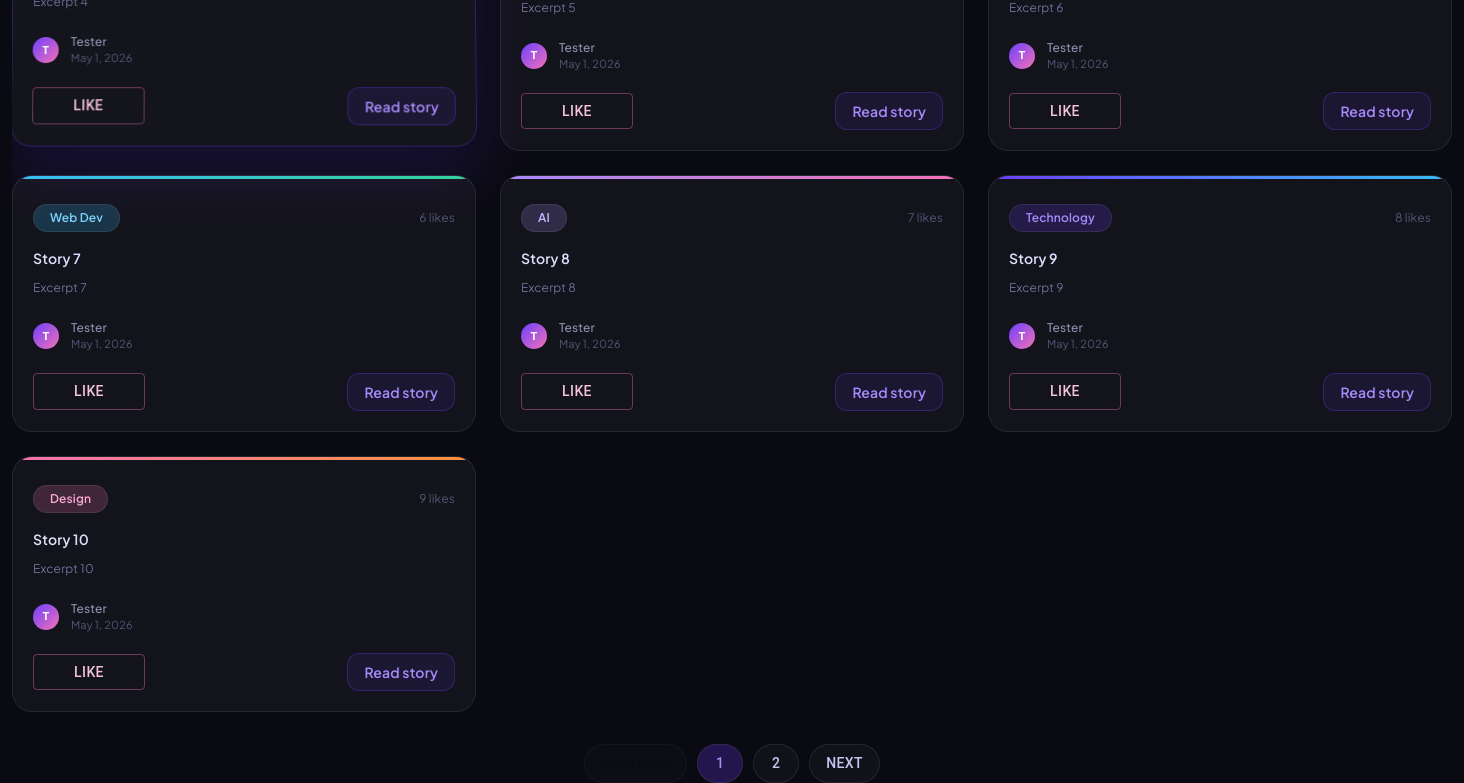
Scenario: BlogListScreen › filters stories by search and paginates results
(page scrolled)
expect the heading "Story 10" is shown: met, box [33,530,89,548]
expect the text "Story 11" is not shown: met
Click the button "Next" at (844,763), box [809,744,880,782]
(page scrolled)
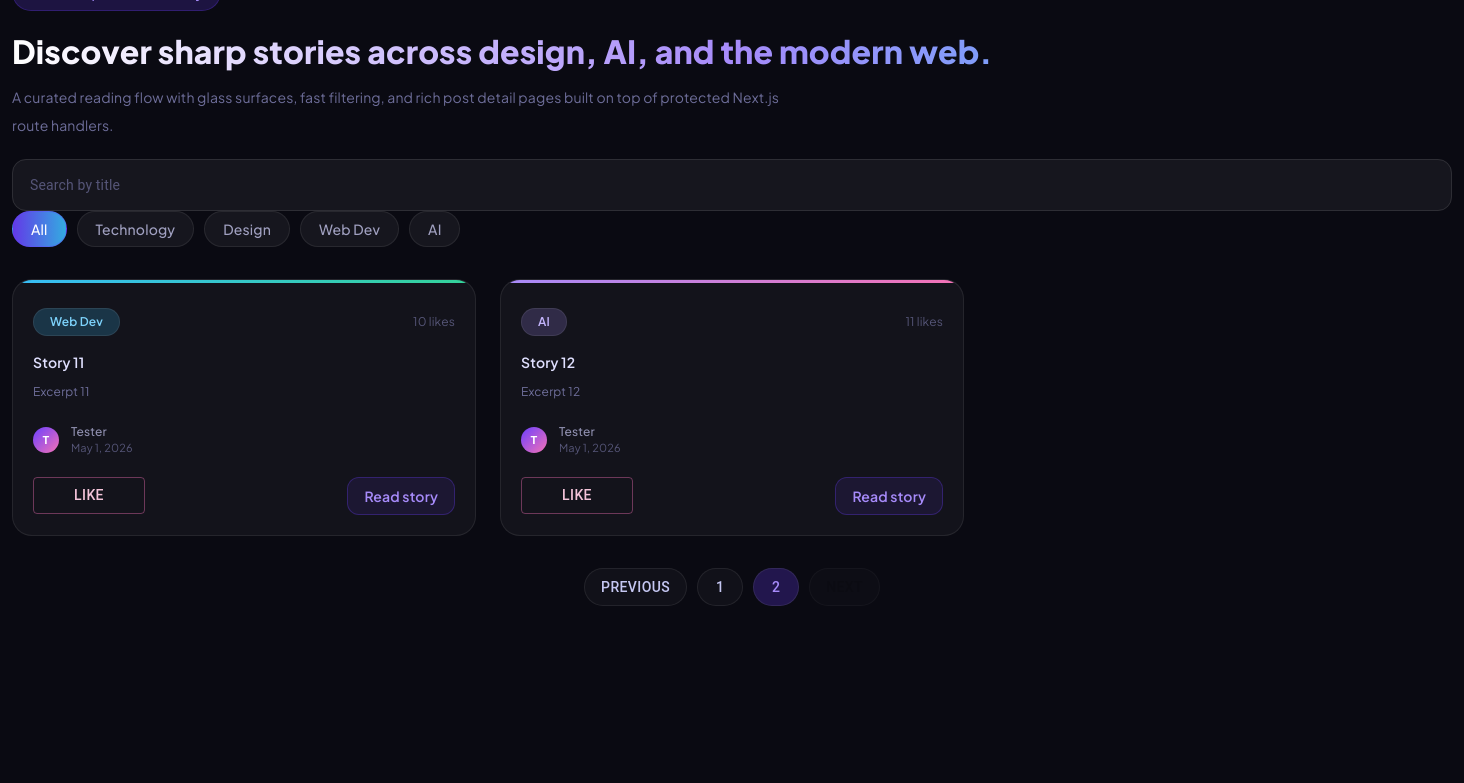
expect the heading "Story 11" is shown: met, box [33,353,84,371]
expect the heading "Story 12" is shown: met, box [521,353,575,371]
Type "Story 2" into the field with placeholder "Search by title" at (732,185), box [12,160,1452,210]
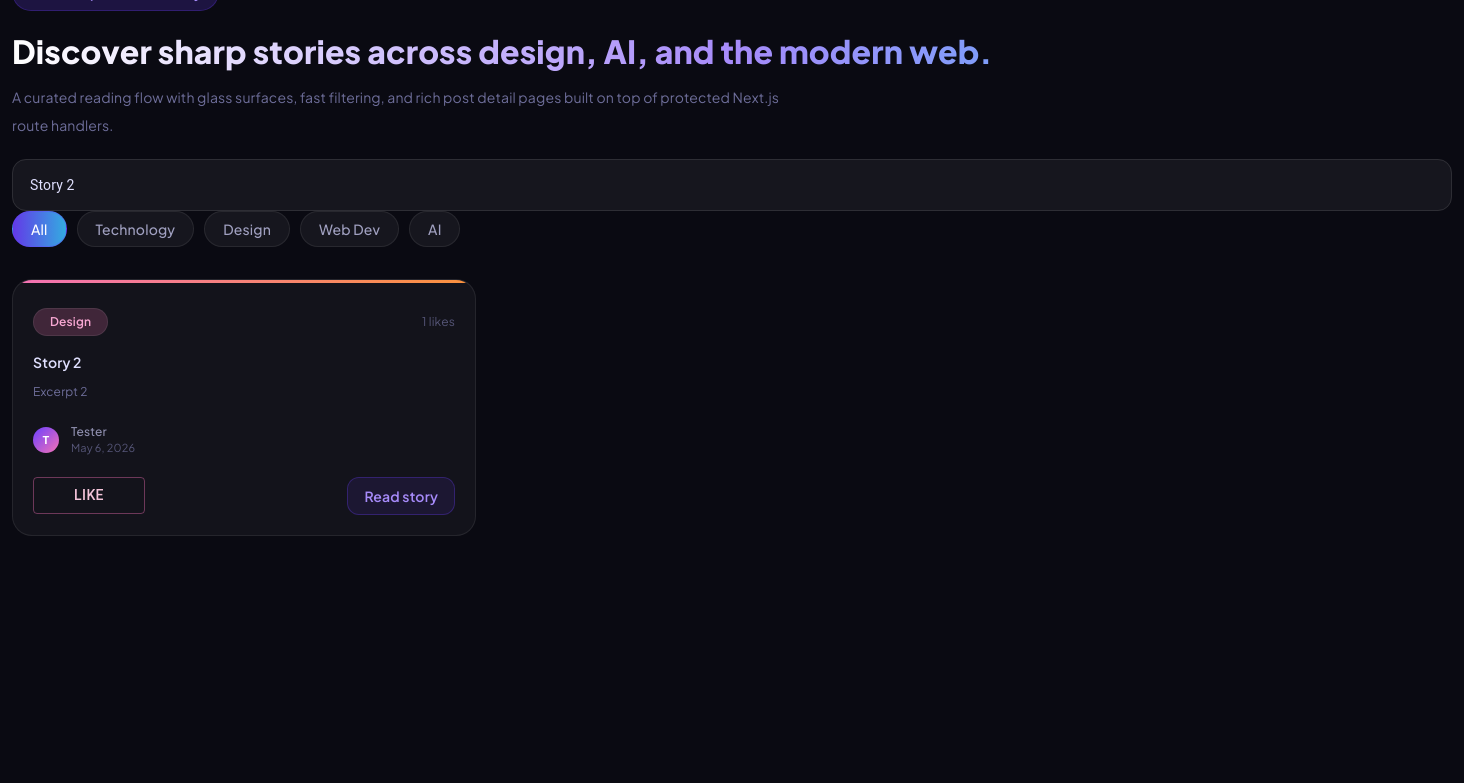
expect the heading "Story 2" is shown: met, box [33,353,82,371]
expect the link "Story 11" is gone: met
